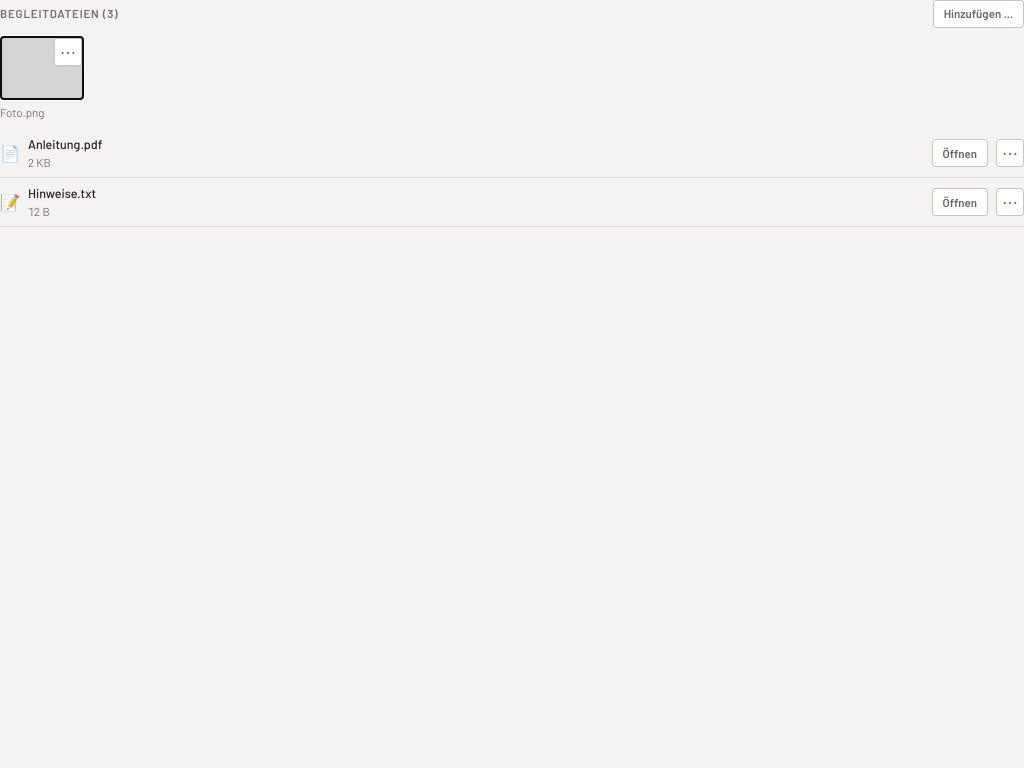
Test: CompanionSection › opens the enlarged picture as a dialog, closes it with Escape and returns focus
This screenshot has width=1024, height=768.
Click the button named "Bild Foto.png groß anzeigen" at (42, 68), box [0, 36, 84, 100]
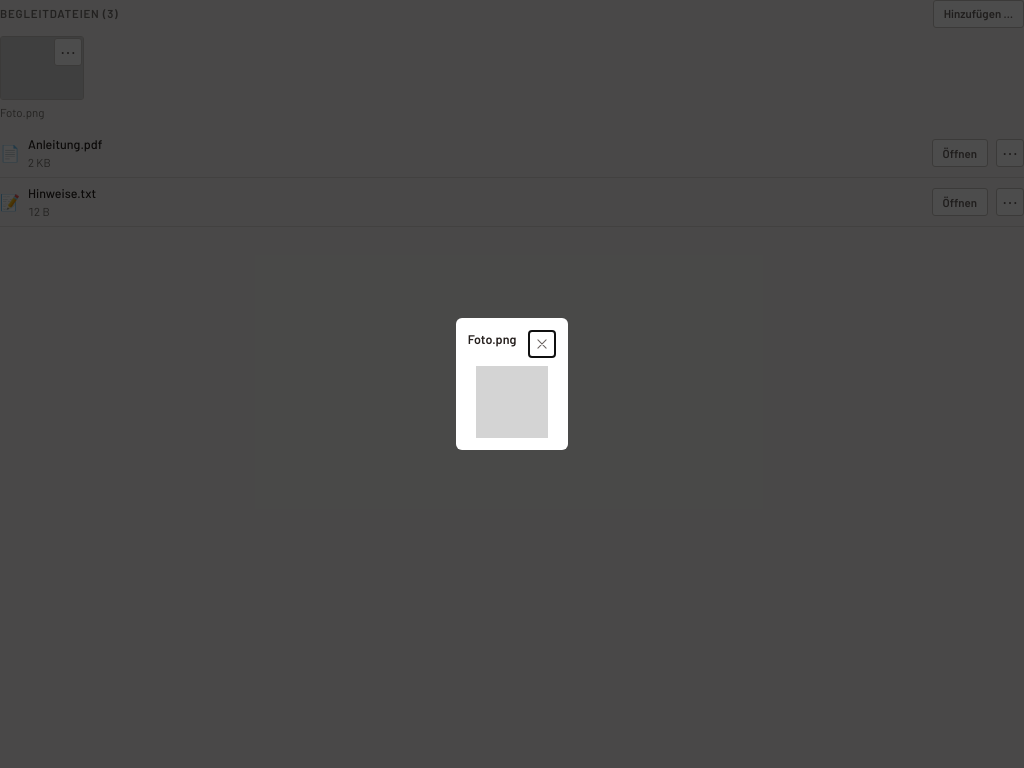
Press Escape in the button named "Großansicht schließen", box [528, 330, 556, 358]
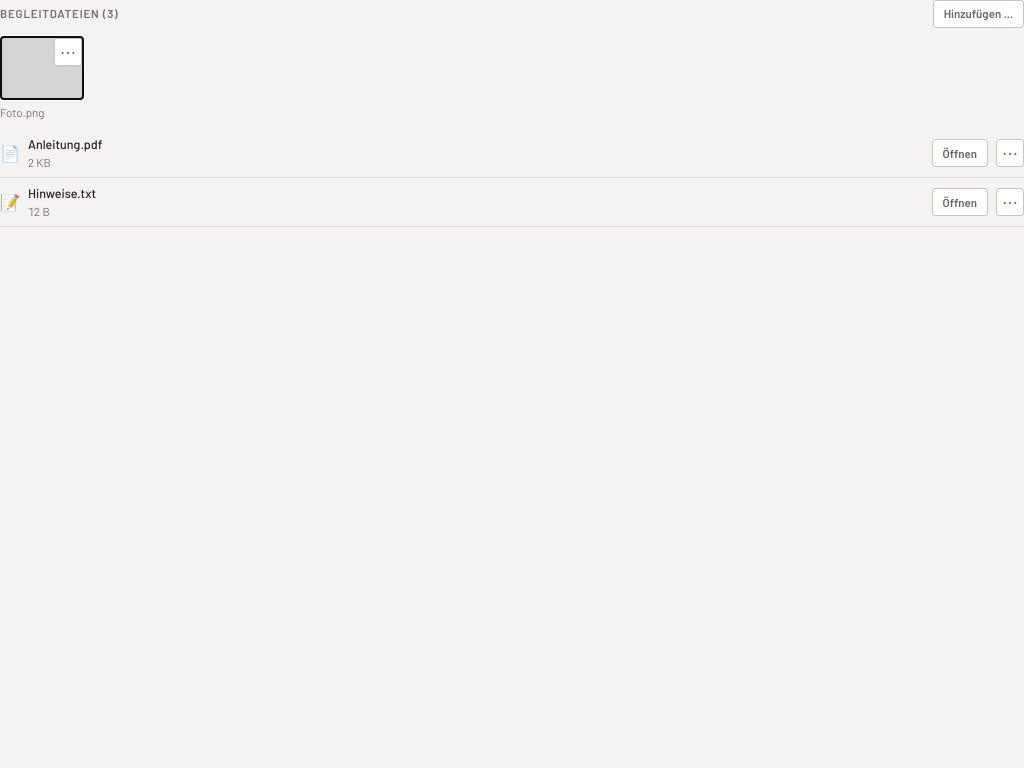
Expected: the dialog is gone
